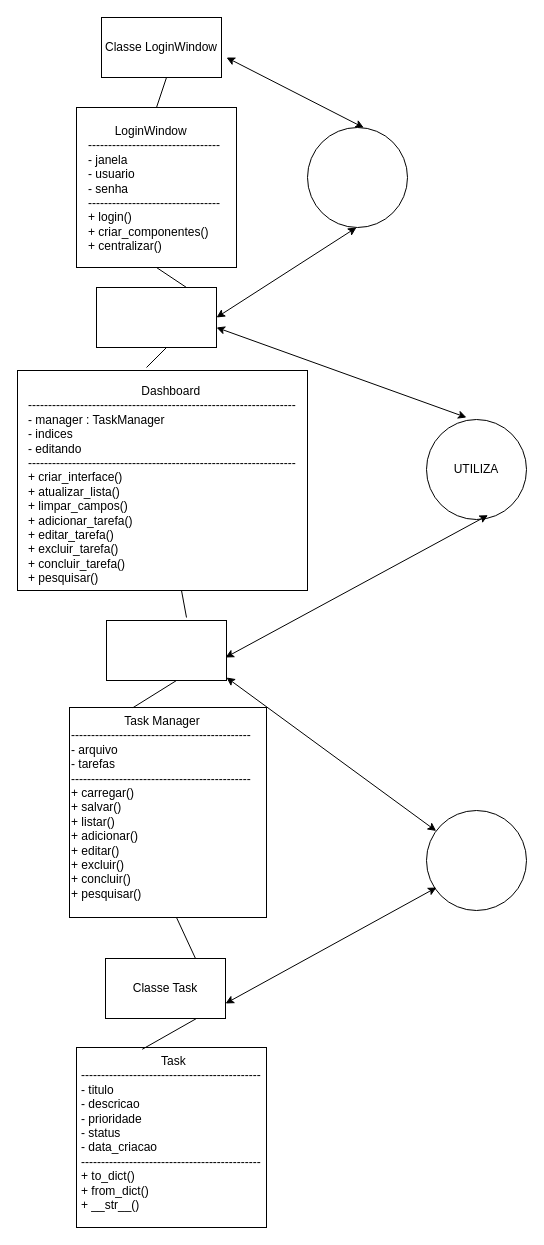
Image size: 544x1245. Some labels were removed from this diagram. Each missing label, with the centre of its shape:
ABRE: pixel 357 177
Classe Dashboard: pixel 156 317
Classe TaskManager: pixel 166 650
GERENCIA: pixel 476 860
